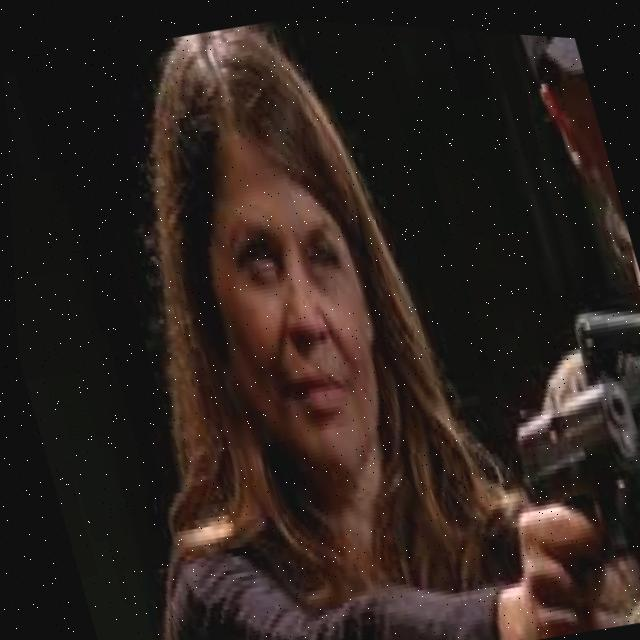pistol: (498, 364, 640, 548)
